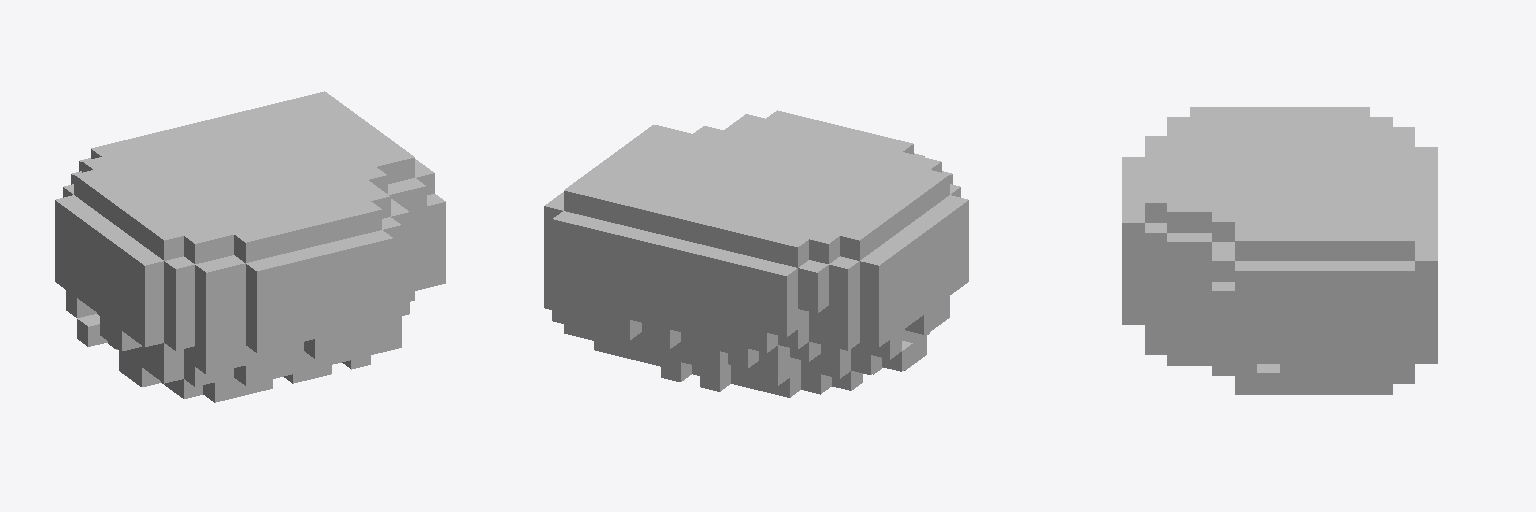
File: ground 8.obj
The picture shows the model from 3 angles: view 1: azimuth 30°, elevation 25°; view 2: azimuth 150°, elevation 25°; view 3: azimuth 270°, elevation 25°; orthographic projection.
Parts seen in each view (by area): view 1: ObjObject.002; view 2: ObjObject.002; view 3: ObjObject.002.
Part boxes in pixels (bbox=[...]): ObjObject.002: bbox=[55, 91, 445, 402]; ObjObject.002: bbox=[544, 110, 968, 397]; ObjObject.002: bbox=[1122, 107, 1437, 394].
Size of the model in its own units: 1.6 by 0.8 by 1.4.